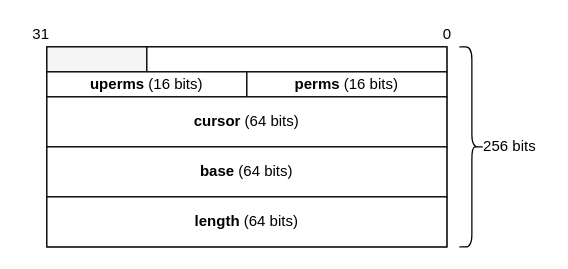
Some shapes in this 568 by 269 pixel diagram are drawn without their labels. Each missing label, with the box of its shape:
otype (24 bits): (146, 46, 447, 72)
padding: (46, 46, 147, 72)
